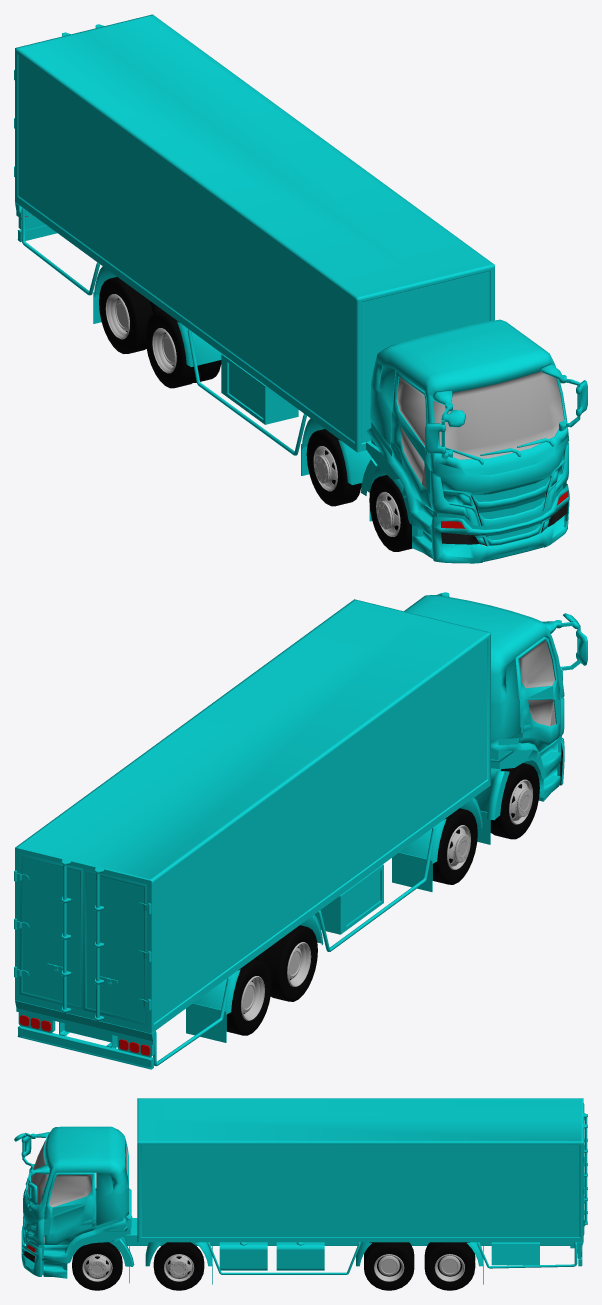
Rendered from truck.dae.
3 renders of one model, top to bottom at view 1: azimuth 30°, elevation 25°; view 2: azimuth 150°, elevation 25°; view 3: azimuth 270°, elevation 25°, orthographic. The views are drawn at different scales.
Visible parts, largest first — view 1: Truck_body_Truck_body_L, Truck_head_Truck_head_L, wheels_Circle, Truck_door_R, Truck_Toolbox1, Truck_backmirror_L, Truck_backmirror_R; view 2: Truck_body_Truck_body_L, Truck_head_Truck_head_L, wheels_Circle, Truck_door_R, Truck_Toolbox1, Truck_backmirror_L; view 3: Truck_body_Truck_body_L, Truck_head_Truck_head_L, wheels_Circle, Truck_door_L, Truck_Fueltank02, Truck_Fueltank01, Truck_Toolbox, Truck_backmirror_L, Truck_backmirror_R.
Boxes of the visible parts, <box> form: Truck_body_Truck_body_L: <box>14,14,494,484</box>; Truck_head_Truck_head_L: <box>360,319,569,563</box>; wheels_Circle: <box>99,277,412,551</box>; Truck_door_R: <box>391,371,432,509</box>; Truck_Toolbox1: <box>221,354,298,424</box>; Truck_backmirror_L: <box>425,390,465,459</box>; Truck_backmirror_R: <box>540,363,587,431</box>; Truck_body_Truck_body_L: <box>14,599,490,1069</box>; Truck_head_Truck_head_L: <box>404,595,564,844</box>; wheels_Circle: <box>226,763,539,1035</box>; Truck_door_R: <box>515,637,560,751</box>; Truck_Toolbox1: <box>314,864,383,934</box>; Truck_backmirror_L: <box>542,613,587,671</box>; Truck_body_Truck_body_L: <box>123,1098,587,1284</box>; Truck_head_Truck_head_L: <box>21,1126,134,1283</box>; wheels_Circle: <box>72,1242,475,1290</box>; Truck_door_L: <box>44,1172,95,1244</box>; Truck_Fueltank02: <box>276,1242,324,1270</box>; Truck_Fueltank01: <box>219,1242,267,1270</box>; Truck_Toolbox: <box>491,1242,539,1265</box>; Truck_backmirror_L: <box>14,1132,49,1169</box>; Truck_backmirror_R: <box>28,1164,49,1204</box>.
Size of the model in its own units: 1.99 by 9.07 by 2.6.
